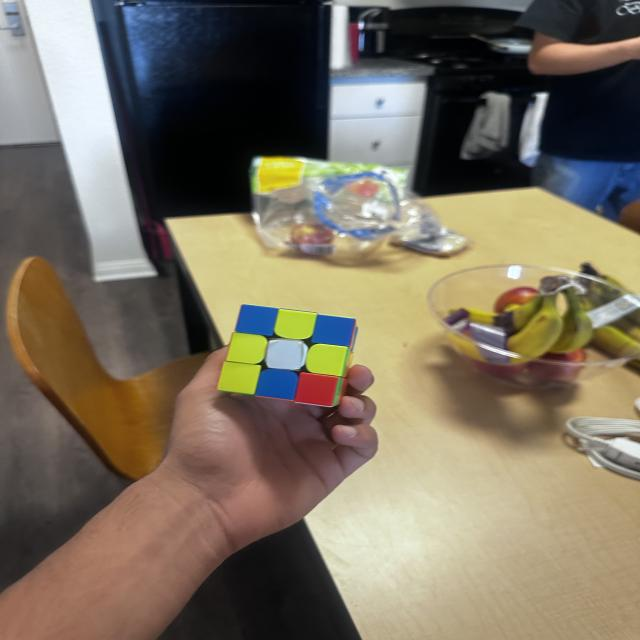sticker: (260, 369, 300, 400), (222, 363, 260, 395), (230, 332, 267, 364), (306, 346, 347, 373), (242, 304, 275, 336), (272, 340, 305, 370), (277, 311, 313, 338), (298, 375, 334, 402), (320, 316, 354, 344)
